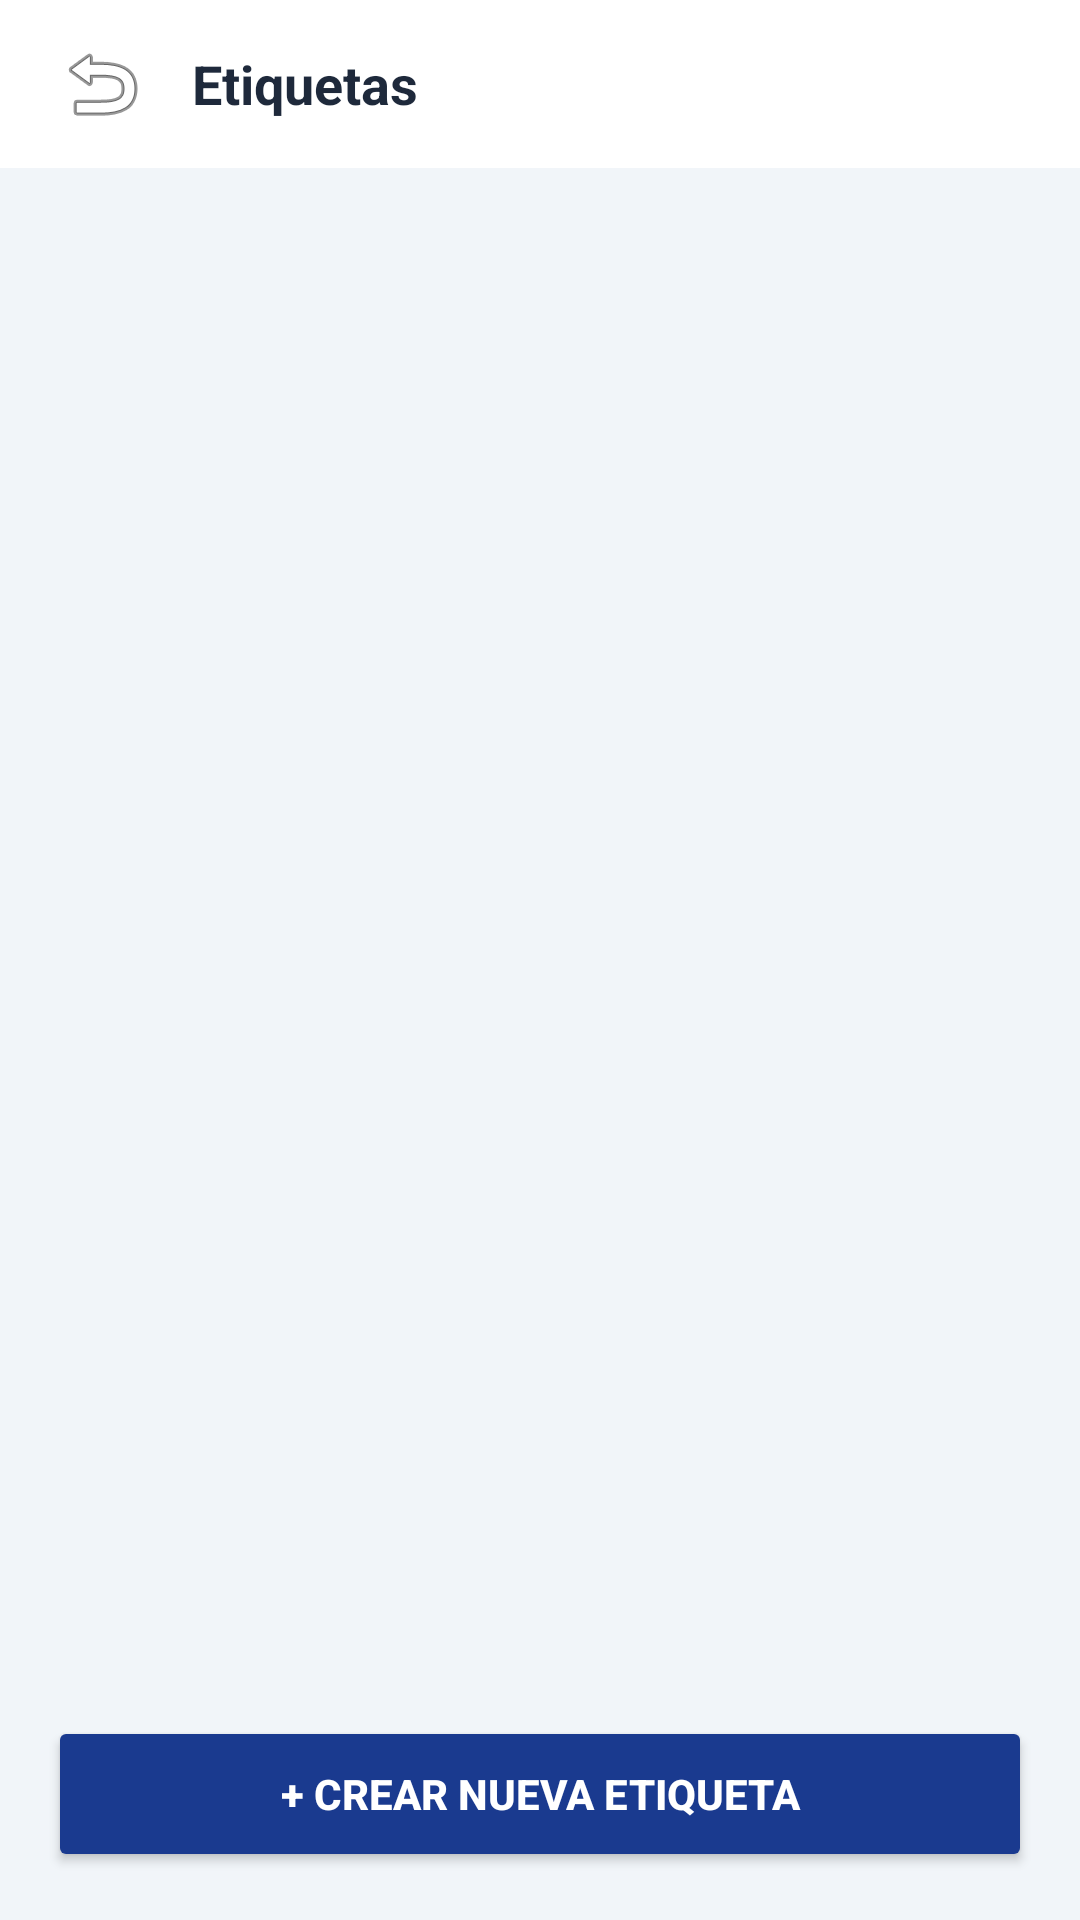

Named icons in this screenshot (1080 × 1920) and their bounding boxes, (x1, y1, x2, y2):
Volver: (69, 53, 138, 116)
